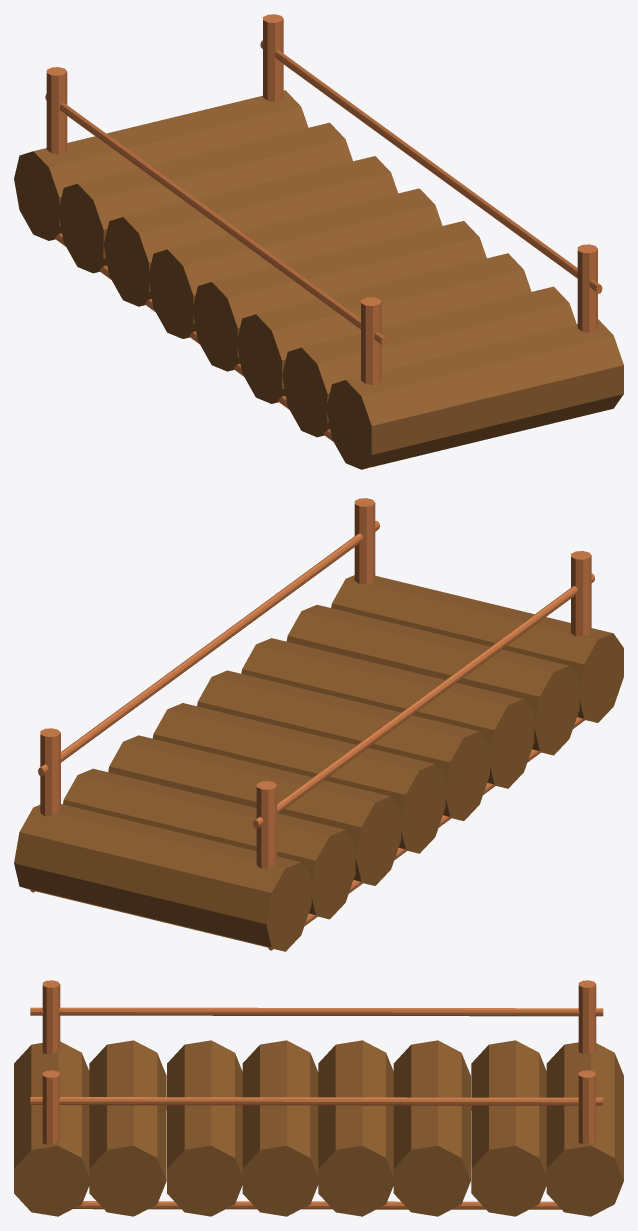
The model's file is WoodBridge.fbx.
3 renders of one model, top to bottom at view 1: azimuth 30°, elevation 25°; view 2: azimuth 150°, elevation 25°; view 3: azimuth 270°, elevation 25°, orthographic. The views are drawn at different scales.
Parts seen in each view (by area): view 1: Cylinder.007, Cylinder.003, Cylinder.002, Cylinder.005, Cylinder.001, Cylinder.006, Cylinder.004, Cylinder.008, Cylinder.016, Cylinder.017, Cylinder.014, Cylinder.015 (+2 smaller); view 2: Cylinder.004, Cylinder.008, Cylinder.005, Cylinder.006, Cylinder.002, Cylinder.001, Cylinder.007, Cylinder.003, Cylinder.016, Cylinder.017, Cylinder.014, Cylinder.015 (+2 smaller); view 3: Cylinder.001, Cylinder.008, Cylinder.005, Cylinder.002, Cylinder.003, Cylinder.006, Cylinder.004, Cylinder.007, Cylinder.016, Cylinder.017, Cylinder.010, Cylinder.015 (+3 smaller).
Part boxes in pixels (box(x1,y1,x2,y2)): Cylinder.007: box(326, 319, 623, 469); Cylinder.003: box(58, 122, 352, 273); Cylinder.002: box(148, 188, 442, 338); Cylinder.005: box(192, 221, 486, 371); Cylinder.001: box(104, 156, 398, 306); Cylinder.006: box(236, 253, 531, 403); Cylinder.004: box(14, 90, 308, 240); Cylinder.008: box(282, 286, 576, 437); Cylinder.016: box(260, 40, 602, 293); Cylinder.017: box(45, 94, 387, 346); Cylinder.014: box(46, 67, 67, 154); Cylinder.015: box(577, 244, 597, 332); Cylinder.004: box(14, 804, 311, 951); Cylinder.008: box(286, 604, 579, 755); Cylinder.005: box(197, 670, 489, 820); Cylinder.006: box(241, 638, 534, 788); Cylinder.002: box(152, 703, 445, 853); Cylinder.001: box(108, 735, 401, 885); Cylinder.007: box(331, 575, 623, 722); Cylinder.003: box(63, 768, 355, 919); Cylinder.016: box(38, 521, 379, 776); Cylinder.017: box(253, 573, 594, 828); Cylinder.014: box(256, 781, 277, 868); Cylinder.015: box(354, 498, 375, 584); Cylinder.001: box(393, 1040, 470, 1216); Cylinder.008: box(89, 1040, 166, 1216); Cylinder.005: box(242, 1040, 319, 1216); Cylinder.002: box(318, 1040, 394, 1216); Cylinder.003: box(471, 1040, 546, 1216); Cylinder.006: box(167, 1040, 243, 1216); Cylinder.004: box(546, 1042, 623, 1216); Cylinder.007: box(14, 1041, 89, 1216); Cylinder.016: box(30, 1097, 603, 1105); Cylinder.017: box(30, 1007, 603, 1016); Cylinder.010: box(73, 1201, 561, 1209); Cylinder.015: box(42, 1070, 60, 1144).
Size of the model in its own units: 189 by 115 by 464.
